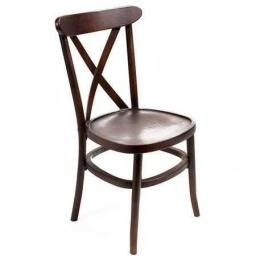Chair: (56, 6, 199, 256)
